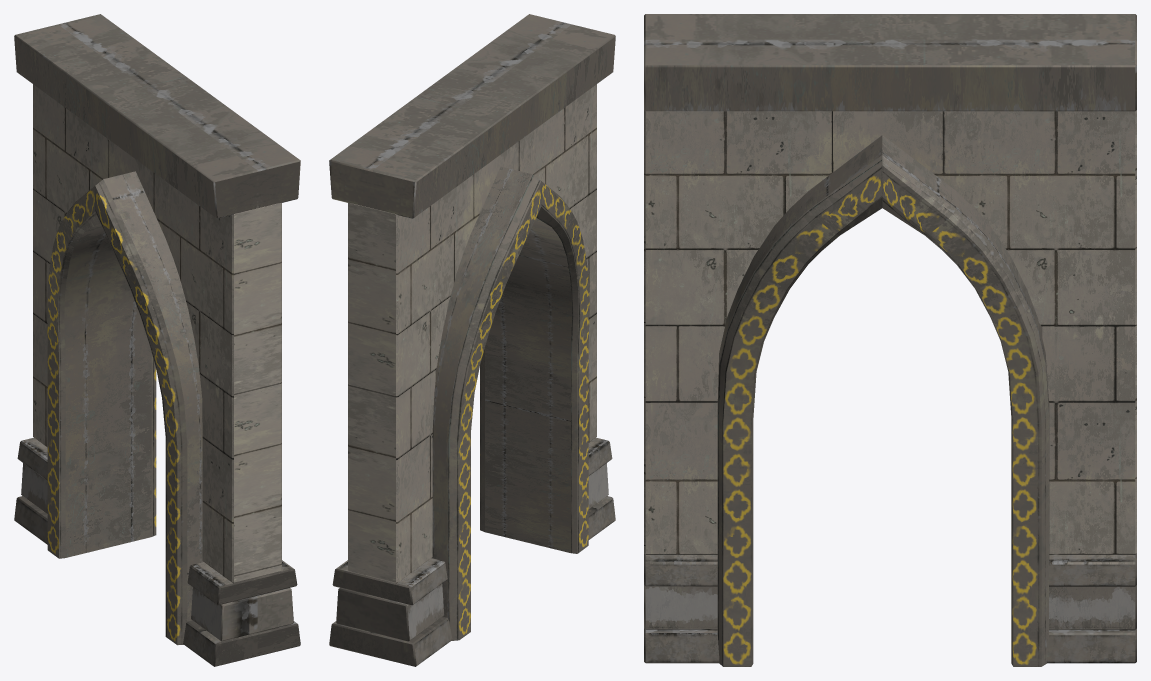
Rendered from SM_Church_Wall_Doorway.fbx.
3 renders of one model, left to right at view 1: azimuth 30°, elevation 25°; view 2: azimuth 150°, elevation 25°; view 3: azimuth 270°, elevation 25°, orthographic. The views are drawn at different scales.
Parts seen in each view (by area): view 1: SM_Wall_Doorway, SM_Wall_Doorway.001; view 2: SM_Wall_Doorway, SM_Wall_Doorway.001; view 3: SM_Wall_Doorway, SM_Wall_Doorway.001.
Boxes of the visible parts, x1=… form: SM_Wall_Doorway: x1=14, y1=14, x2=300, y2=666; SM_Wall_Doorway.001: x1=47, y1=171, x2=203, y2=645; SM_Wall_Doorway: x1=329, y1=14, x2=615, y2=666; SM_Wall_Doorway.001: x1=432, y1=166, x2=589, y2=640; SM_Wall_Doorway: x1=644, y1=14, x2=1136, y2=663; SM_Wall_Doorway.001: x1=717, y1=135, x2=1049, y2=666.
Bounding box in the file's own units: 228 × 804 × 600.
